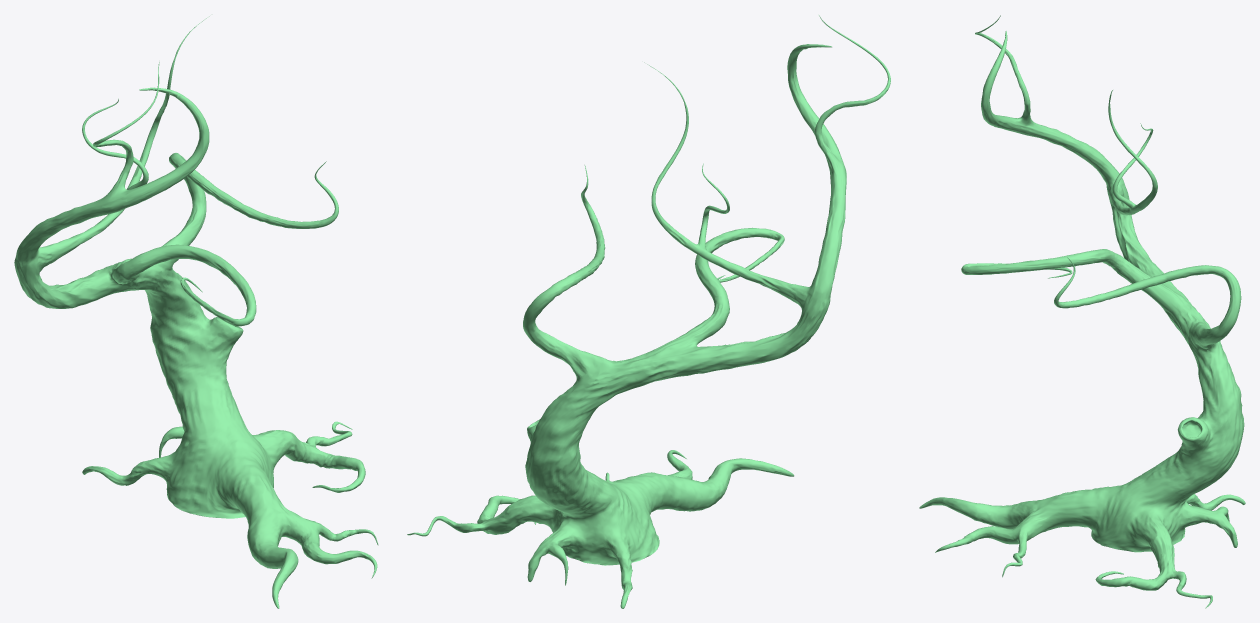
The model's file is Boom_Zbrush_Export.fbx.
The picture shows the model from 3 angles, left to right: view 1: azimuth 30°, elevation 25°; view 2: azimuth 150°, elevation 25°; view 3: azimuth 270°, elevation 25°; orthographic projection. The views are drawn at different scales.
Visible parts, largest first — view 1: Boom_Smooth_2_OBJ; view 2: Boom_Smooth_2_OBJ; view 3: Boom_Smooth_2_OBJ.
Part boxes in pixels (x1,y1,x2,y2): Boom_Smooth_2_OBJ: [14, 16, 378, 608]; Boom_Smooth_2_OBJ: [407, 15, 890, 608]; Boom_Smooth_2_OBJ: [919, 15, 1245, 608].
Size of the model in its own units: 78.31 by 104 by 65.54.
